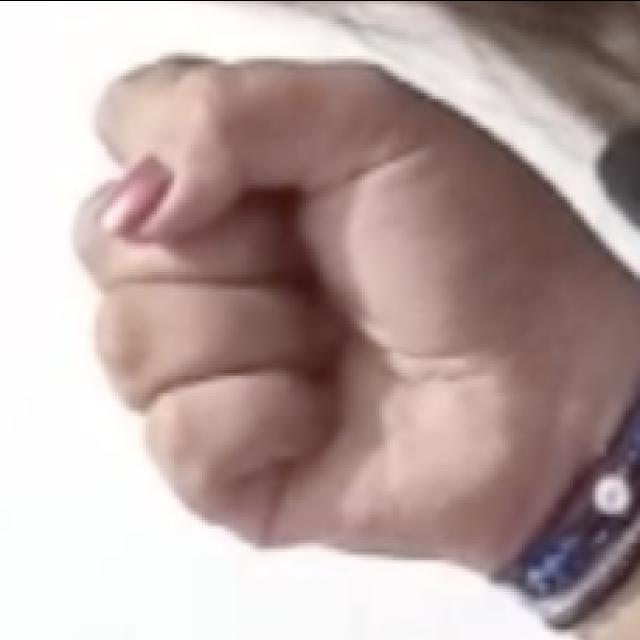S: (64, 45, 620, 570)
